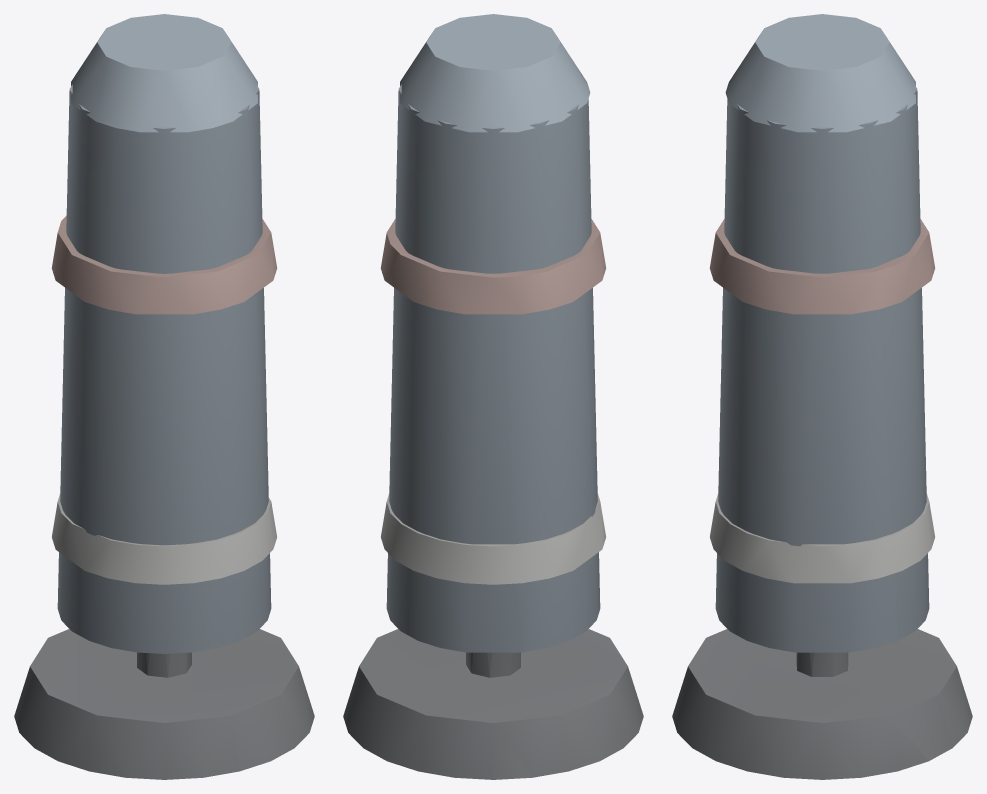
Rendered from dummy.lod1.glb.
3 renders of one model, left to right at view 1: azimuth 30°, elevation 25°; view 2: azimuth 150°, elevation 25°; view 3: azimuth 270°, elevation 25°, orthographic.
Bounding box in the file's own units: 0.76 × 1.88 × 0.76.
